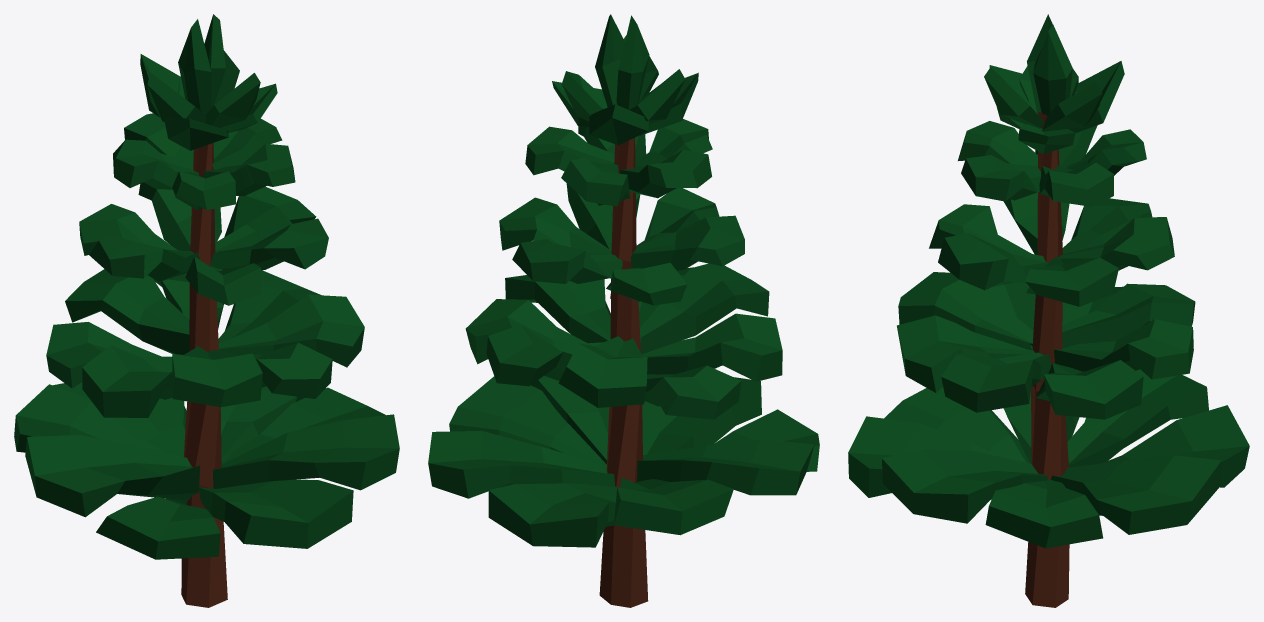
Rendered from Tree_6_Low.fbx.
3 renders of one model, left to right at view 1: azimuth 30°, elevation 25°; view 2: azimuth 150°, elevation 25°; view 3: azimuth 270°, elevation 25°, orthographic.
Visible parts, largest first — view 1: Tree_6_Low; view 2: Tree_6_Low; view 3: Tree_6_Low.
Part boxes in pixels (<box>): Tree_6_Low: <box>14,14,399,607</box>; Tree_6_Low: <box>428,14,819,607</box>; Tree_6_Low: <box>848,14,1249,607</box>.
Bounding box in the file's own units: 129 × 213 × 133.
